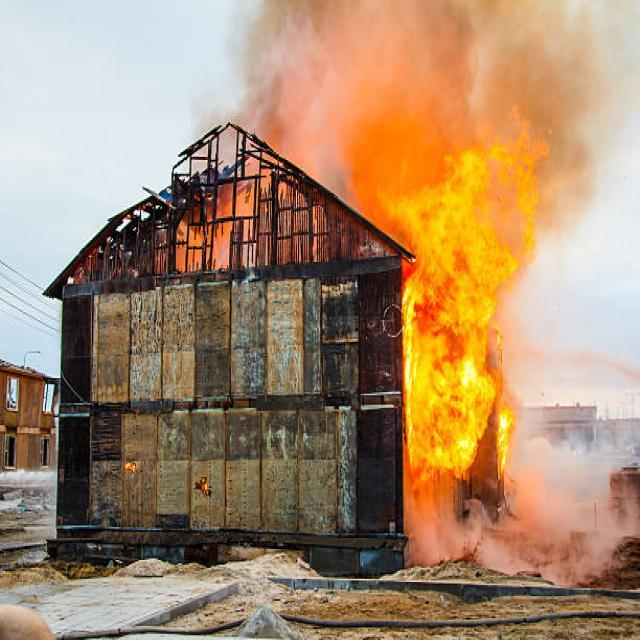Fire: (404, 150, 512, 477)
Smoke: (266, 0, 630, 176)
